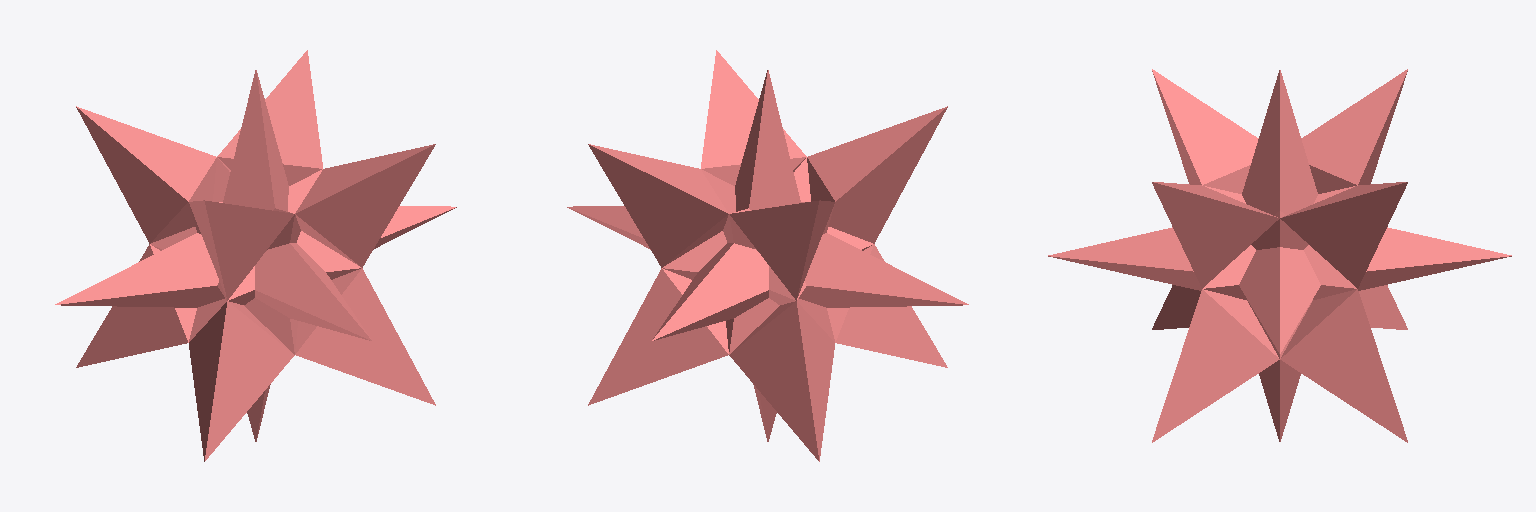
3 views of the same model, side by side, from view 1: azimuth 30°, elevation 25°; view 2: azimuth 150°, elevation 25°; view 3: azimuth 270°, elevation 25° (orthographic).
Parts seen in each view (by area): view 1: Cube; view 2: Cube; view 3: Cube.
Part boxes in pixels (left/top/right/bottom): Cube: left=55, top=50, right=456, bottom=461; Cube: left=567, top=50, right=968, bottom=461; Cube: left=1048, top=69, right=1511, bottom=442.
Size of the model in its own units: 6 by 5.33 by 6.
Materials: 1 (1 with a texture image).